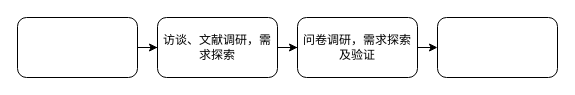
This 575x95 diagram has some shape labels left out. Each missing label, with the centre of its shape:
brainstorm、文献调研，解决方案探索: point 497,47
机械设计领域 存在问题: point 77,47
